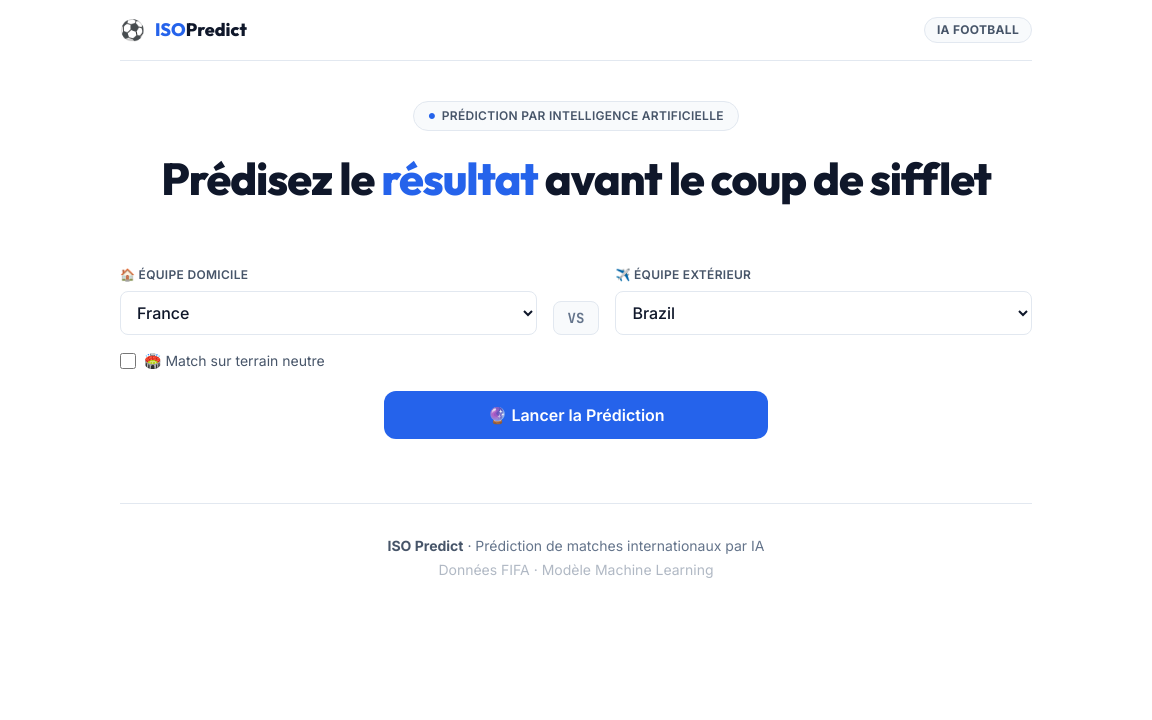
Test: App › disables the submit button and shows a warning for a same-team matchup
Check: the dropdown showing "France" is shown, box [120,291,537,335]
Select "France" in the dropdown labelled "✈️ Équipe Extérieur". click: (824, 313)
box: [615,291,1032,335]
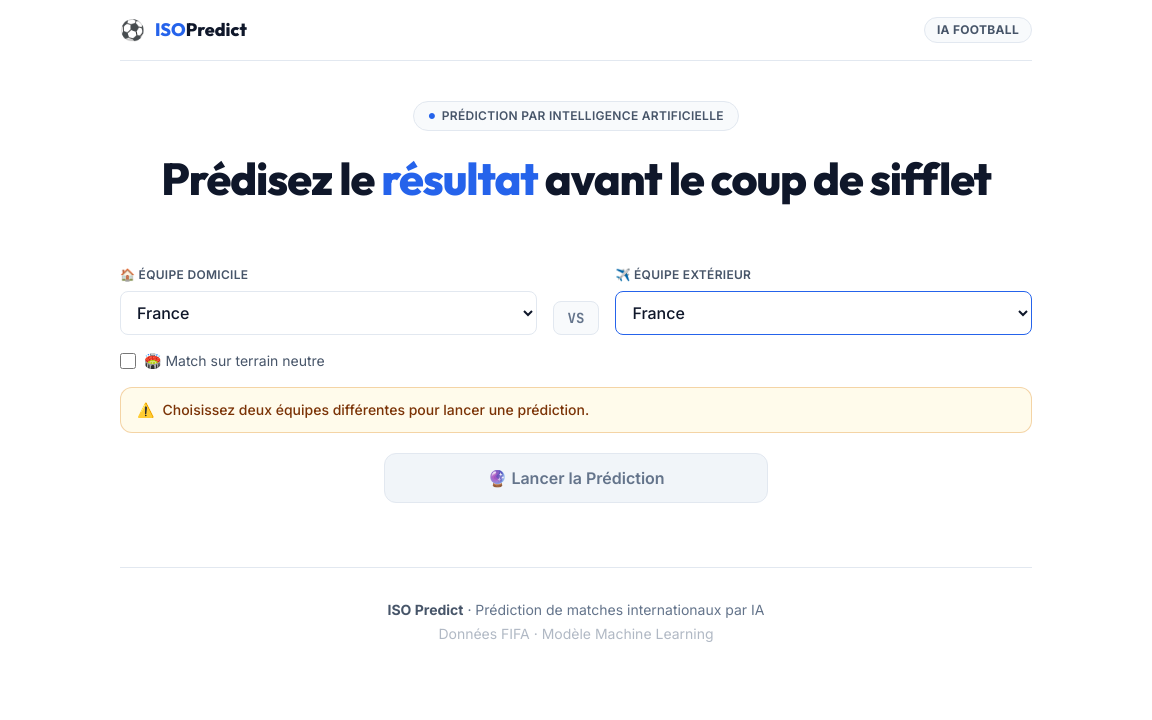
Check: the button "🔮 Lancer la Prédiction" is disabled, box [384,453,768,503]
Check: the message shows "différentes", box [162,401,589,418]
